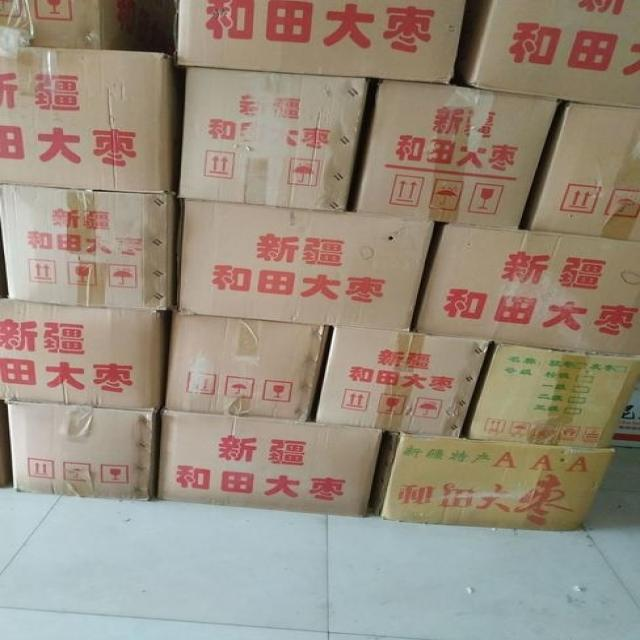box: (177, 198, 435, 332), (355, 79, 559, 230), (413, 223, 640, 356), (178, 66, 371, 212), (0, 47, 174, 194), (155, 409, 384, 518), (370, 431, 618, 531), (176, 0, 470, 83), (0, 182, 176, 311), (459, 0, 640, 110), (316, 326, 490, 438), (0, 298, 167, 408), (466, 342, 640, 446), (164, 313, 330, 420), (521, 100, 640, 243), (5, 401, 156, 500), (0, 1, 177, 51)
